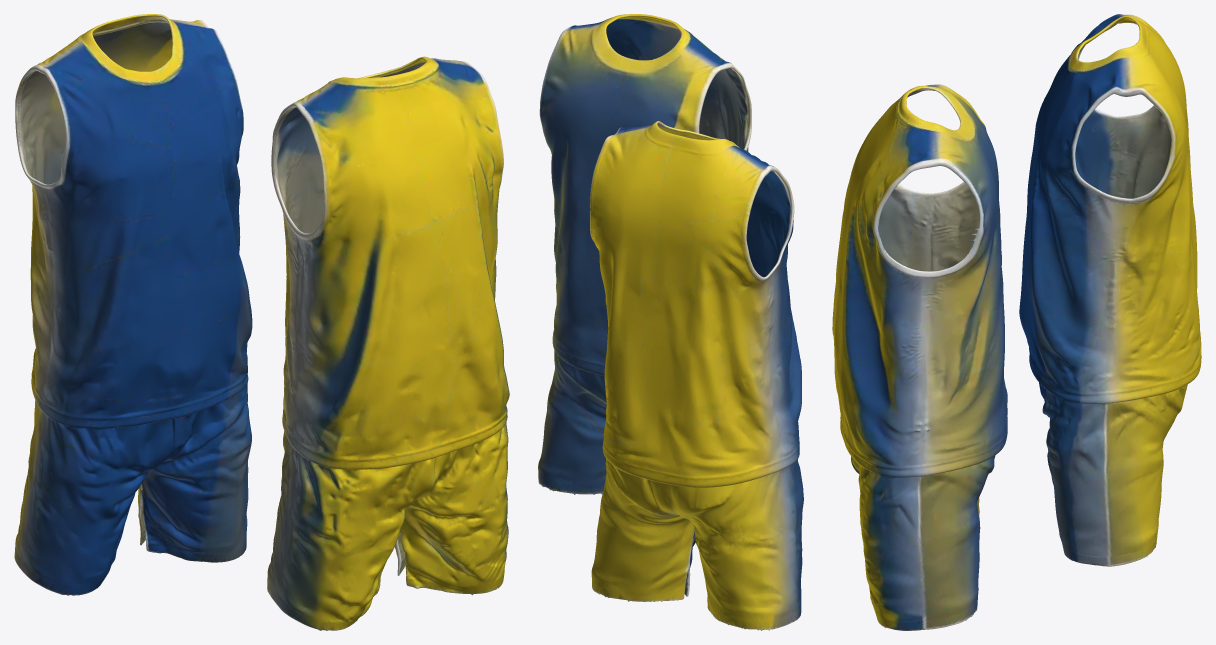
Rendered from KITB1000.glb.
The picture shows the model from 3 angles, left to right: view 1: azimuth 30°, elevation 25°; view 2: azimuth 150°, elevation 25°; view 3: azimuth 270°, elevation 25°; orthographic projection. The views are drawn at different scales.
Visible parts, largest first — view 1: mesh_node; view 2: mesh_node; view 3: mesh_node.
Boxes of the visible parts, left/top/right/bottom form: mesh_node: left=14, top=14, right=509, bottom=630; mesh_node: left=538, top=14, right=803, bottom=630; mesh_node: left=832, top=14, right=1201, bottom=630.
Bounding box in the file's own units: 1.39 × 1.9 × 1.3.
1 material, 1 textured.
